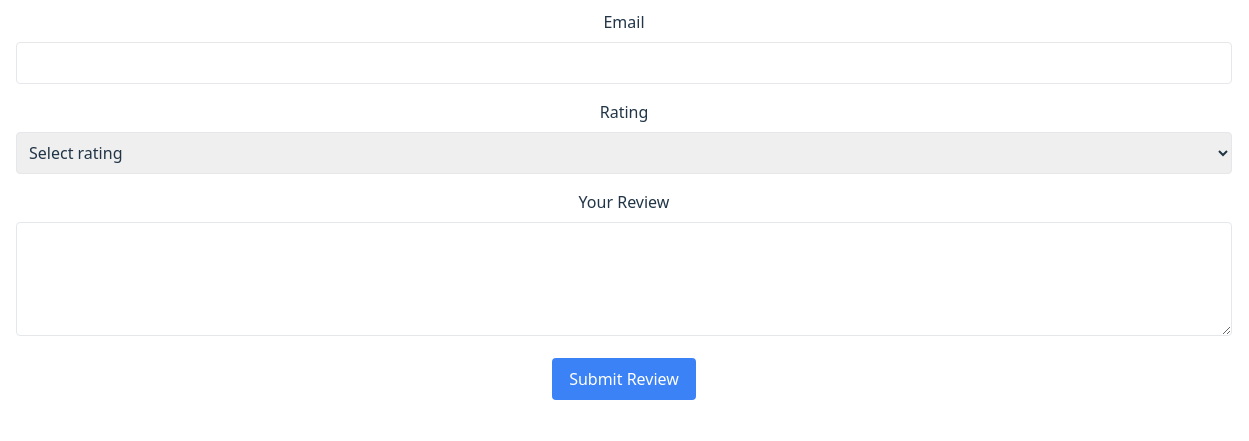
ReviewForm › Should show error when review is short
This screenshot has width=1249, height=441.
Type "test@example.com" into the field labelled "Email" at (624, 63), box x1=16 y1=42 x2=1232 y2=84
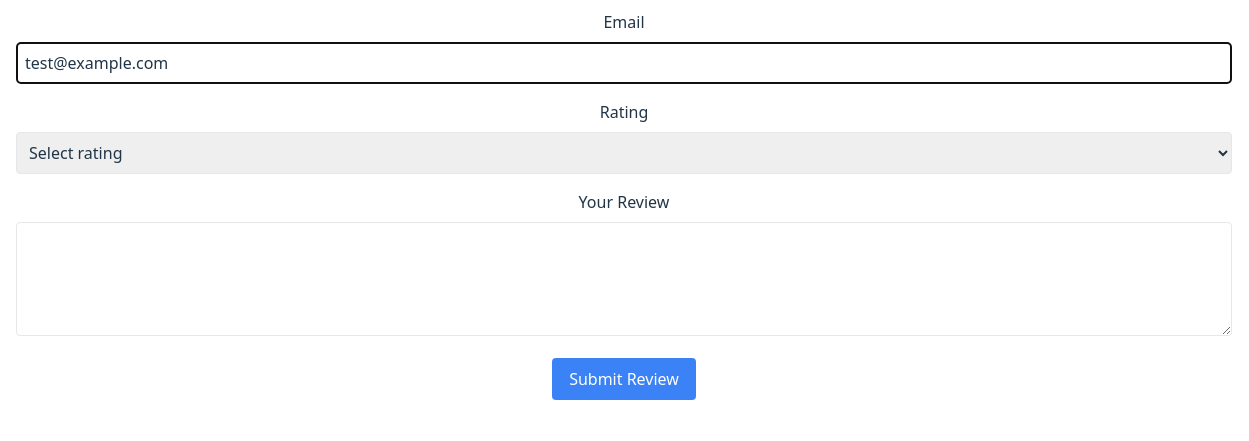
Select "5 stars" in the dropdown labelled "Rating" at (624, 153), box x1=16 y1=132 x2=1232 y2=174
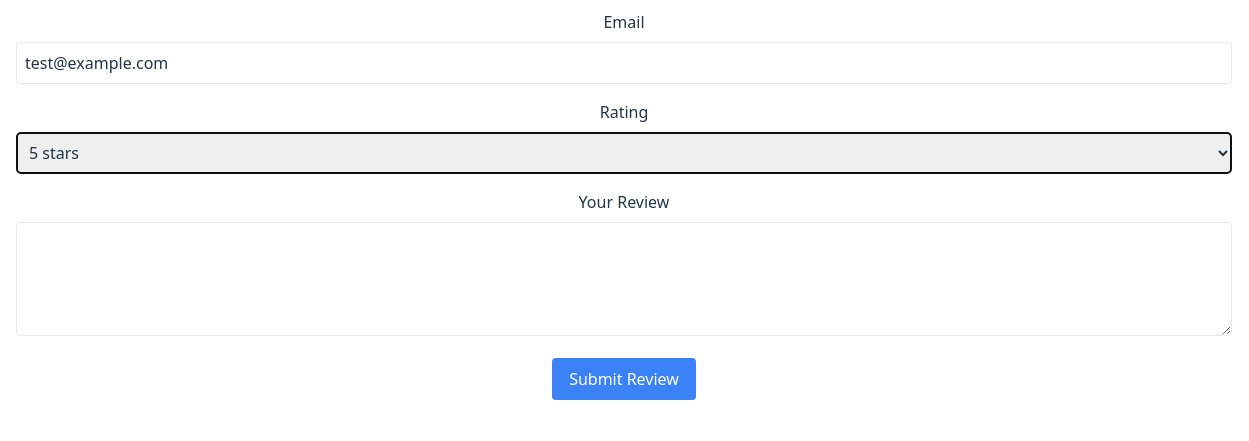
Type "Short" into the text box labelled "Your Review" at (624, 279), box x1=16 y1=222 x2=1232 y2=336
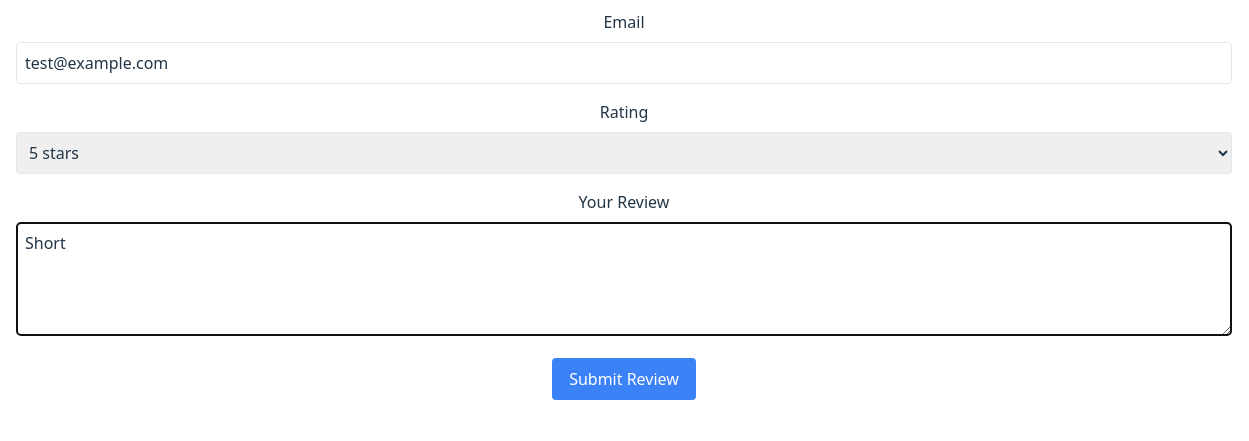
Click the button "Submit Review" at (624, 379), box x1=552 y1=358 x2=696 y2=400
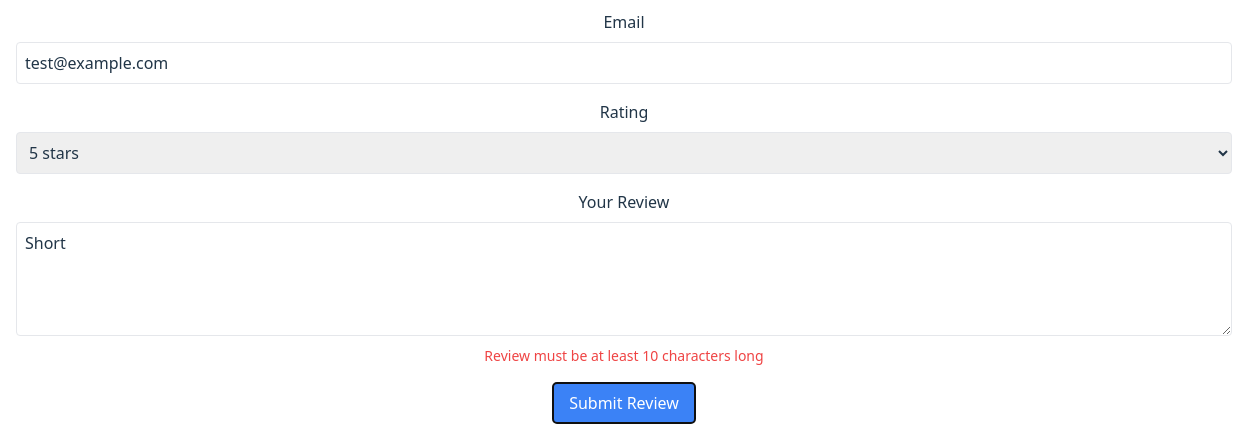
Check: the text "Review must be at least 10 characters long" is shown, box x1=484 y1=346 x2=764 y2=365
